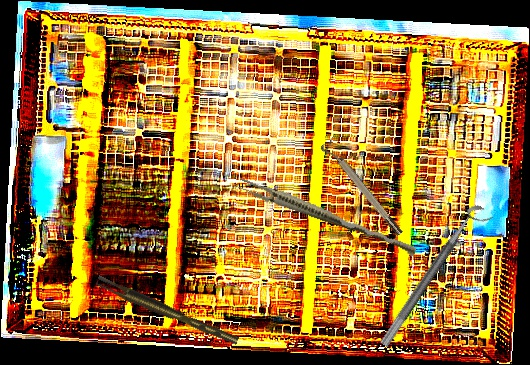Fixation Ring: (378, 201, 495, 356), (319, 137, 405, 241)
Tissue Forceps: (235, 176, 420, 257), (94, 270, 240, 353)
